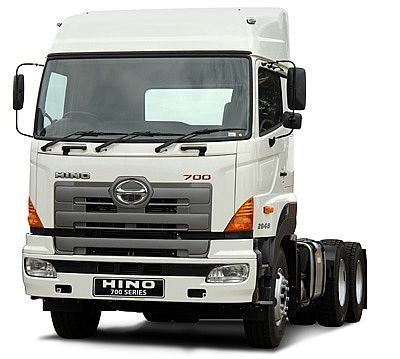truck: (23, 5, 371, 348)
